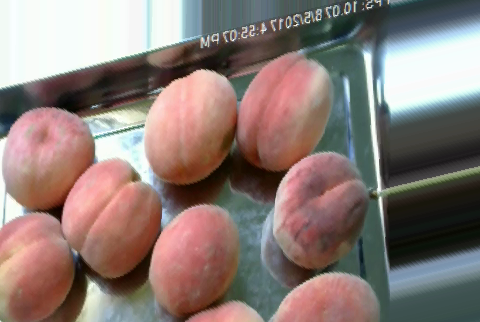Peach: (58, 158, 160, 279), (237, 54, 333, 169), (271, 152, 366, 266), (143, 67, 235, 184), (150, 204, 241, 315), (3, 107, 94, 210), (275, 268, 373, 322), (176, 295, 275, 322)
